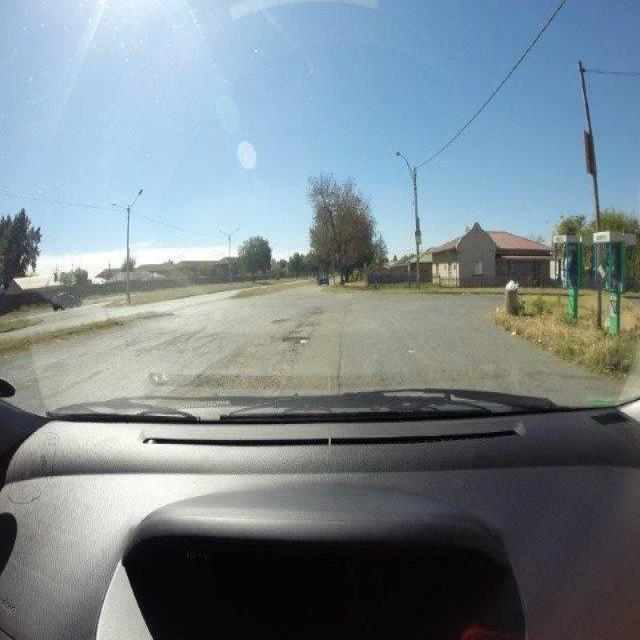lubang: (298, 308, 326, 331), (280, 333, 313, 345), (271, 314, 293, 324)
